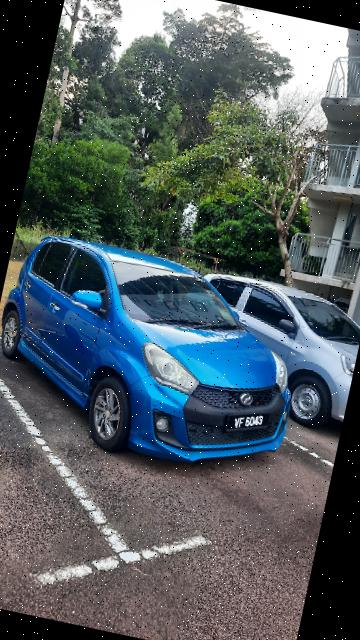License_Plate: (224, 399, 278, 444)
car: (1, 226, 321, 486), (169, 265, 360, 435)
